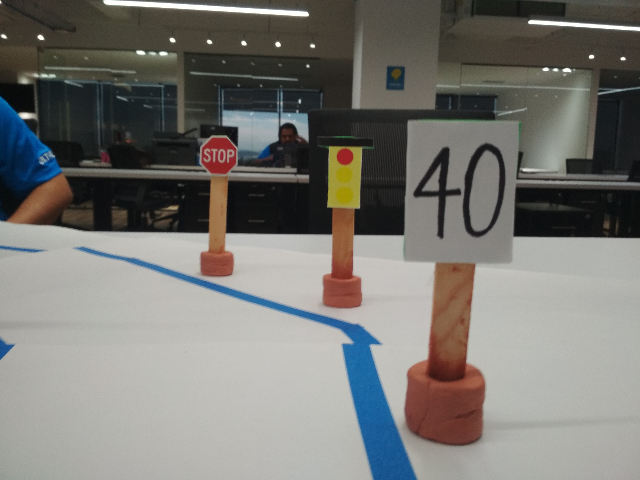Red Traffic Light: (312, 134, 376, 211)
Speed Limit 40: (399, 115, 515, 267)
Stop Sign: (197, 133, 241, 176)
